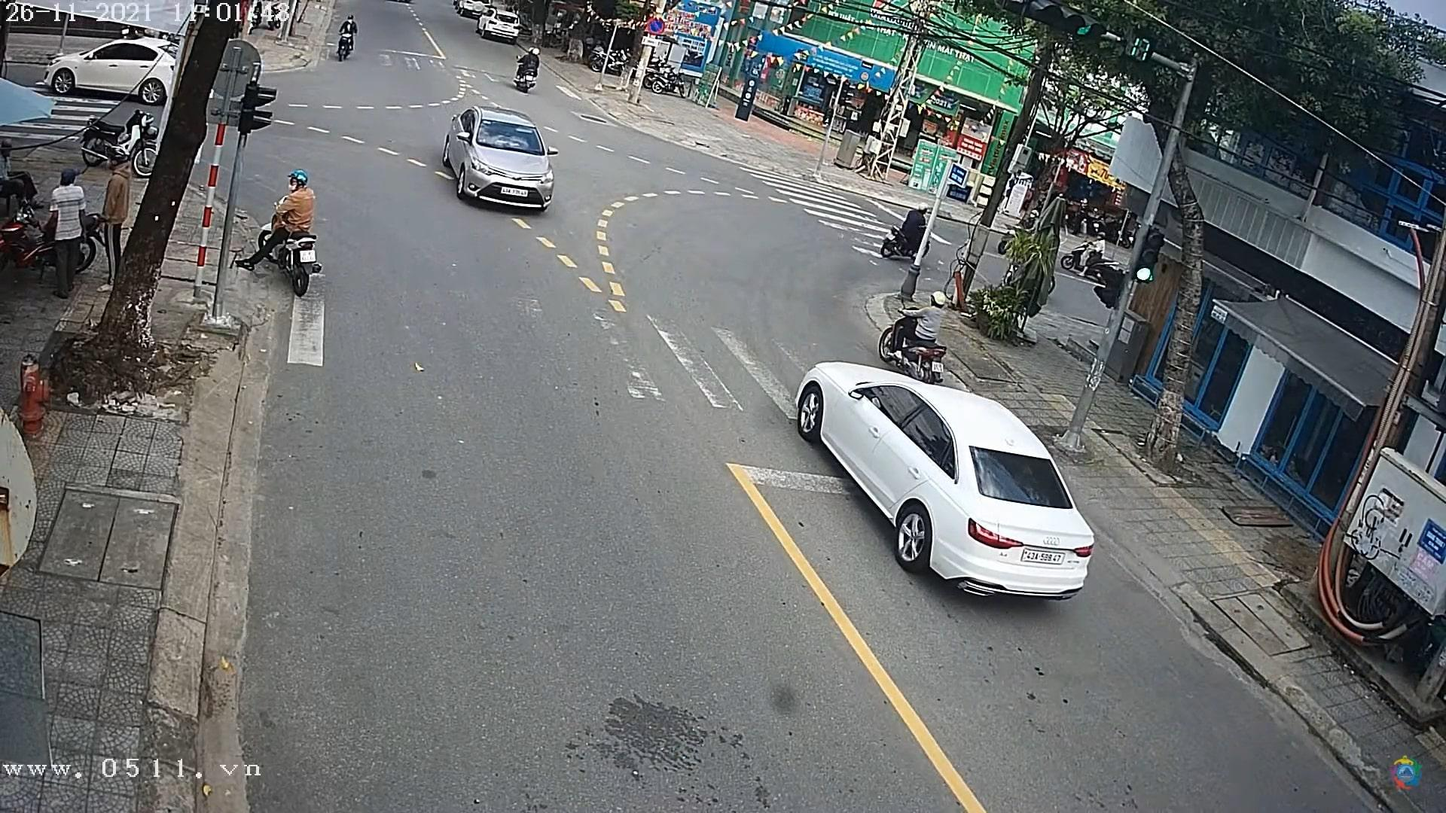car: (796, 363, 1099, 602), (443, 106, 562, 216), (31, 39, 182, 98), (255, 213, 323, 303), (453, 2, 495, 20)
motorbike: (513, 55, 540, 93), (336, 23, 360, 62)
